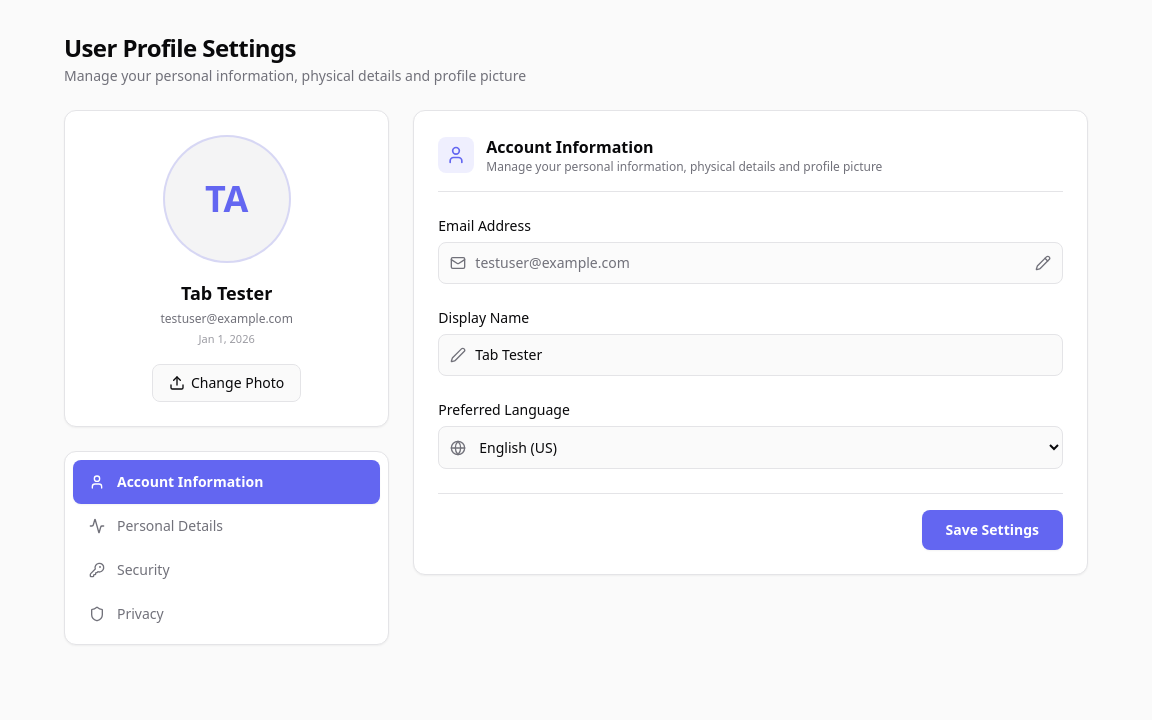
Profile Tabbed Navigation and Functionality › validates password mismatch in Security tab
The width and height of the screenshot is (1152, 720).
# Switch to Security tab
Click the tab "Security" at (143, 569), box x1=73 y1=548 x2=380 y2=592
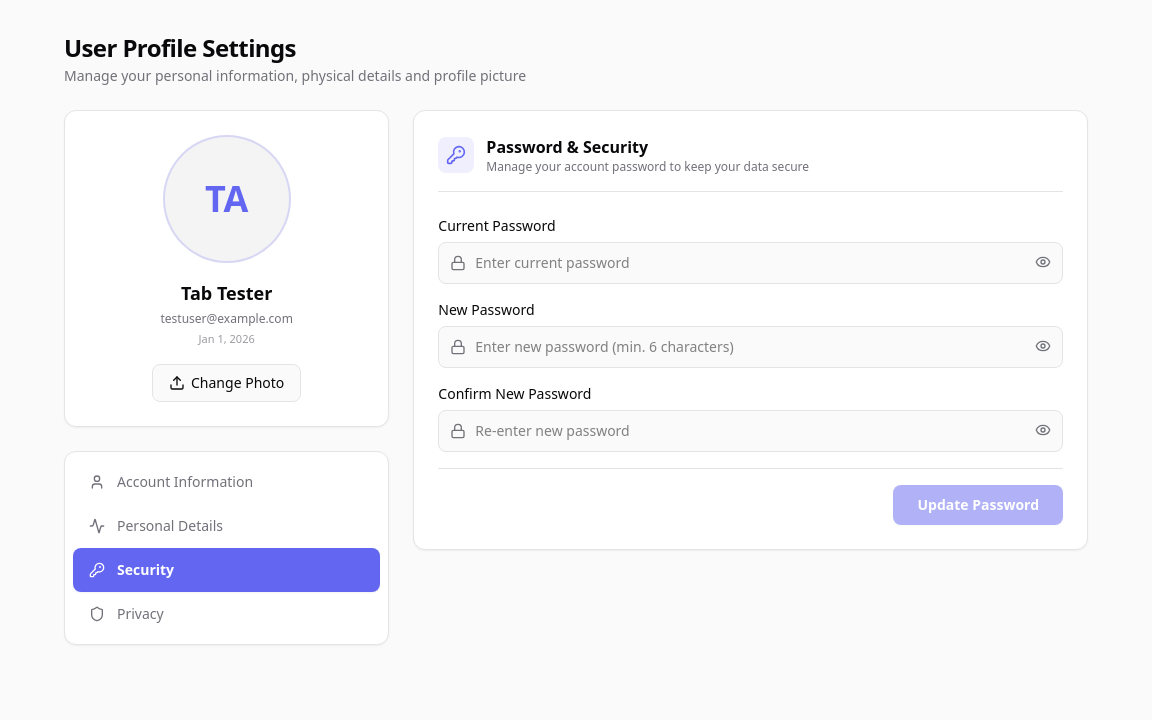
Check: the panel "Security" is shown, box x1=413 y1=110 x2=1088 y2=550
Type "current123" into the password field labelled "Current Password" at (751, 263), box x1=438 y1=242 x2=1063 y2=284
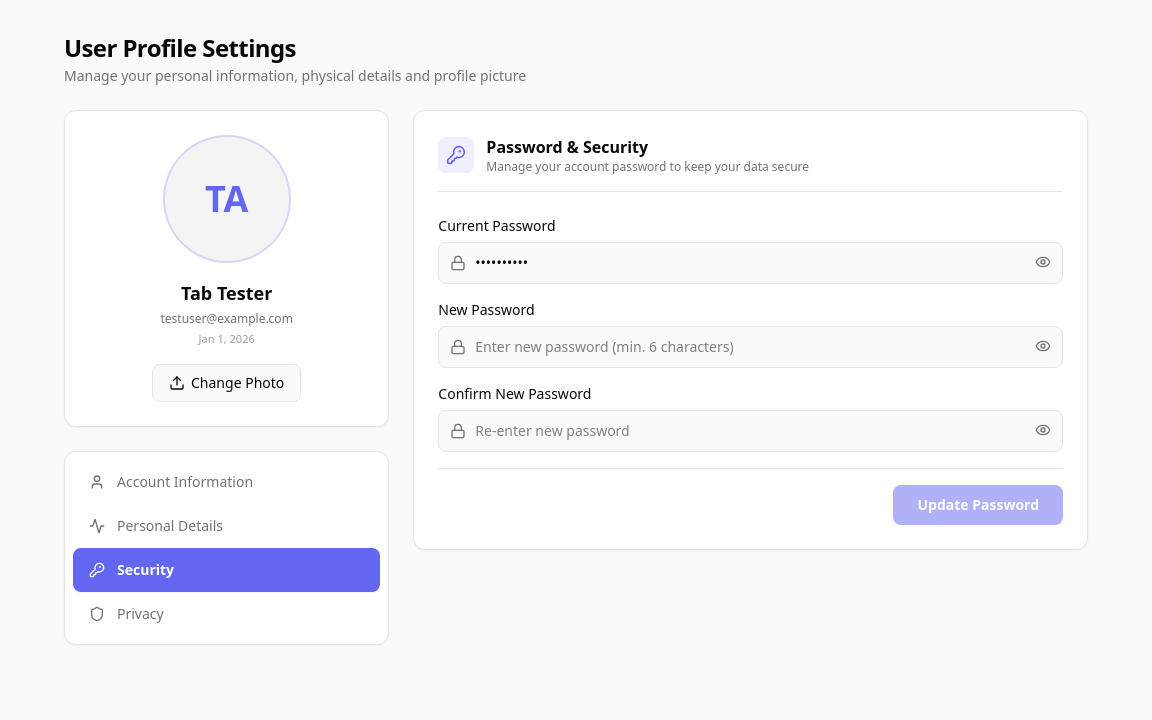
Type "newpassword123" into the password field labelled "New Password" at (751, 347), box x1=438 y1=326 x2=1063 y2=368
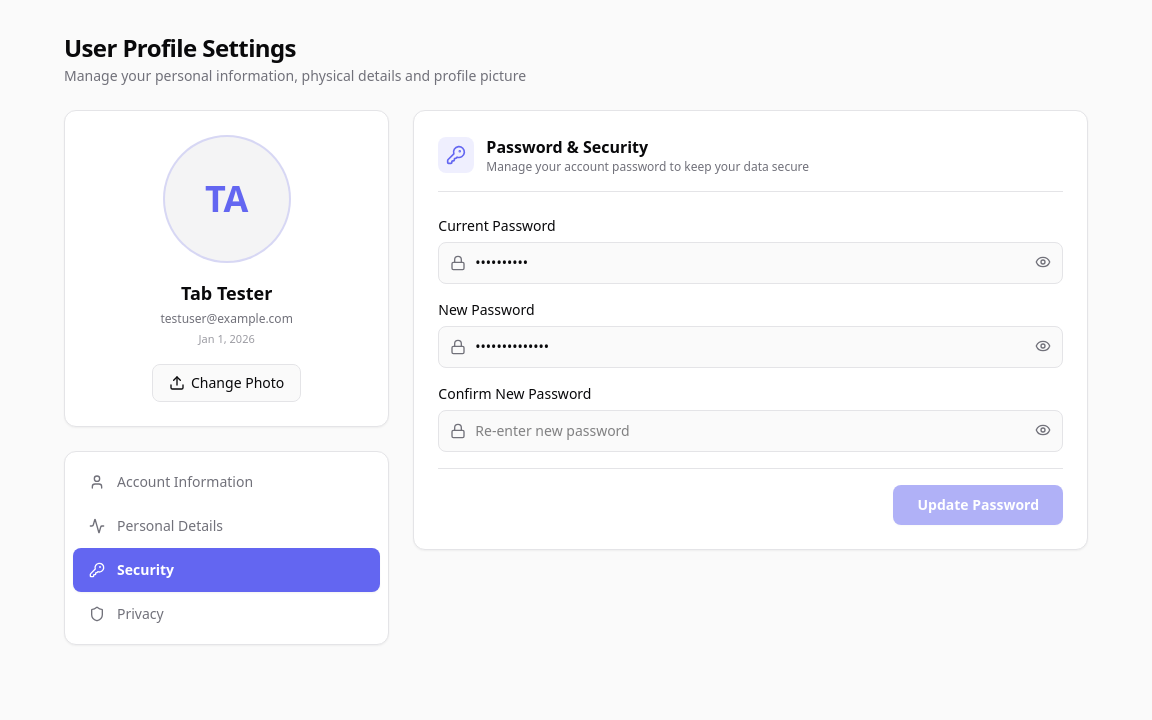
Type "different123" into the password field labelled "Confirm New Password" at (751, 431), box x1=438 y1=410 x2=1063 y2=452
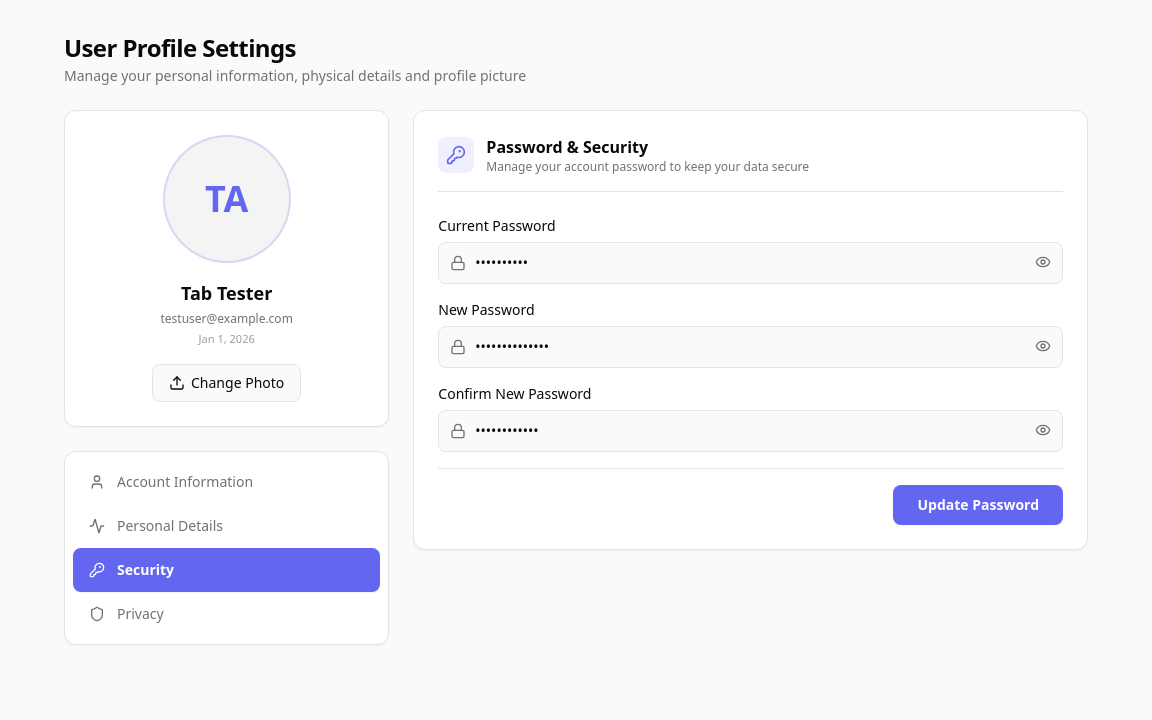
Click the button "Update Password" at (978, 505), box x1=894 y1=485 x2=1063 y2=525
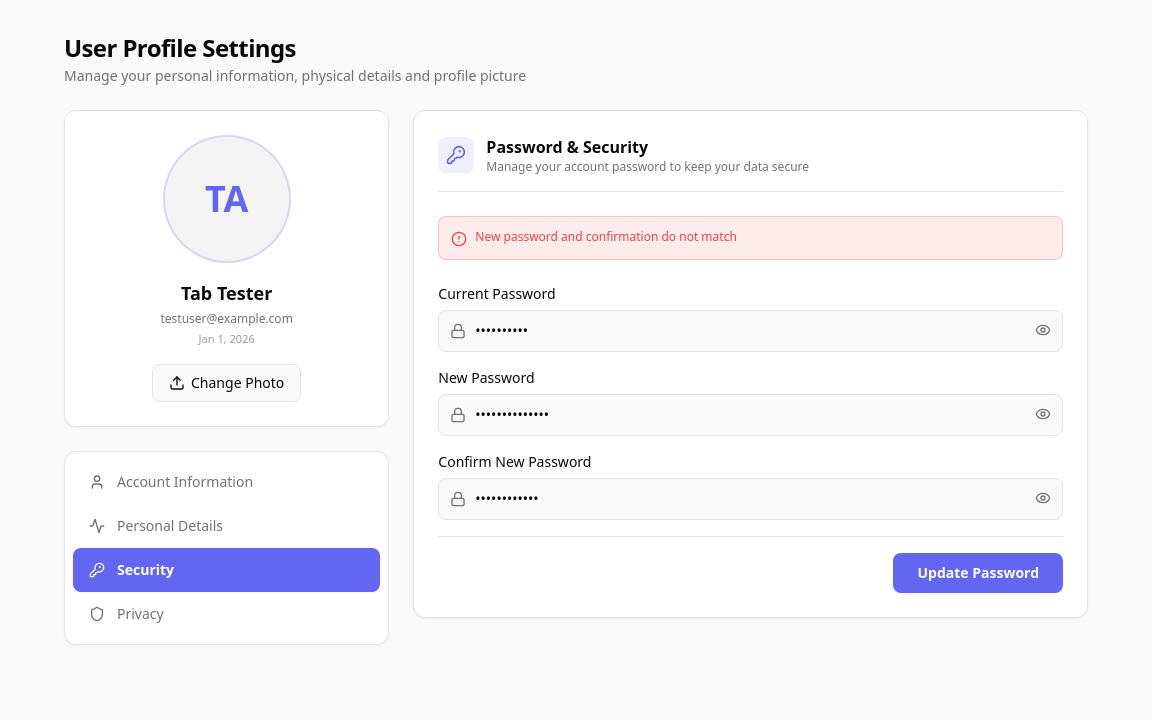
Check: the text "New password and confirmation do not match" is shown, box x1=475 y1=229 x2=737 y2=245
